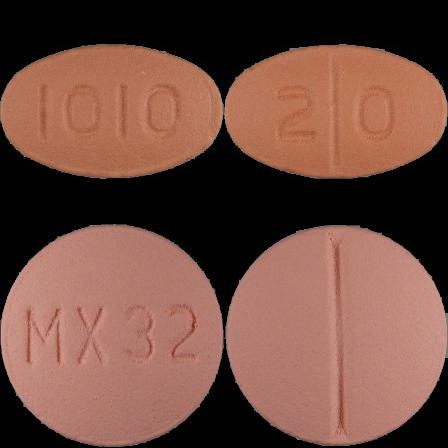53808-0225: (0, 0, 224, 224)
